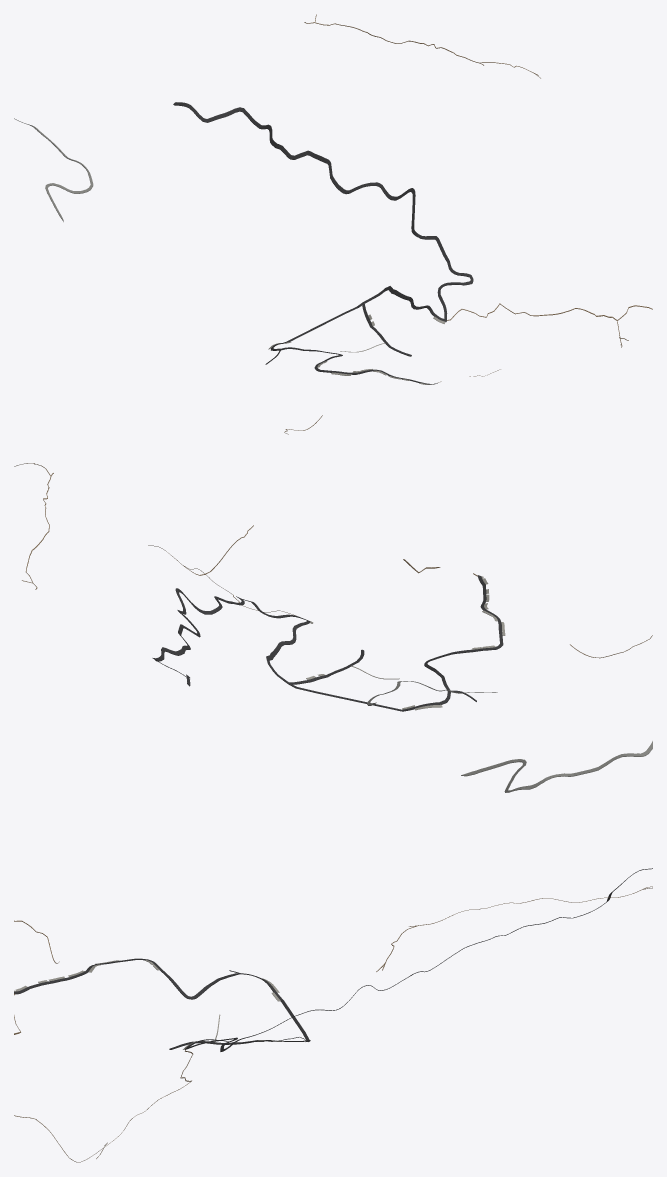
3 views of the same model, one above another, from view 1: azimuth 30°, elevation 25°; view 2: azimuth 150°, elevation 25°; view 3: azimuth 270°, elevation 25° (orthographic). The views are drawn at different scales.
Size of the model in its own units: 1173 by 481 by 1167.
